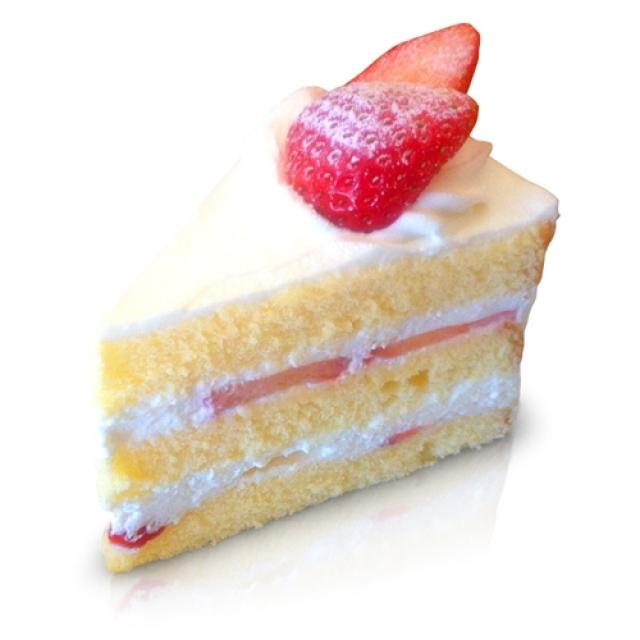蛋糕甜品: (37, 11, 595, 596)
